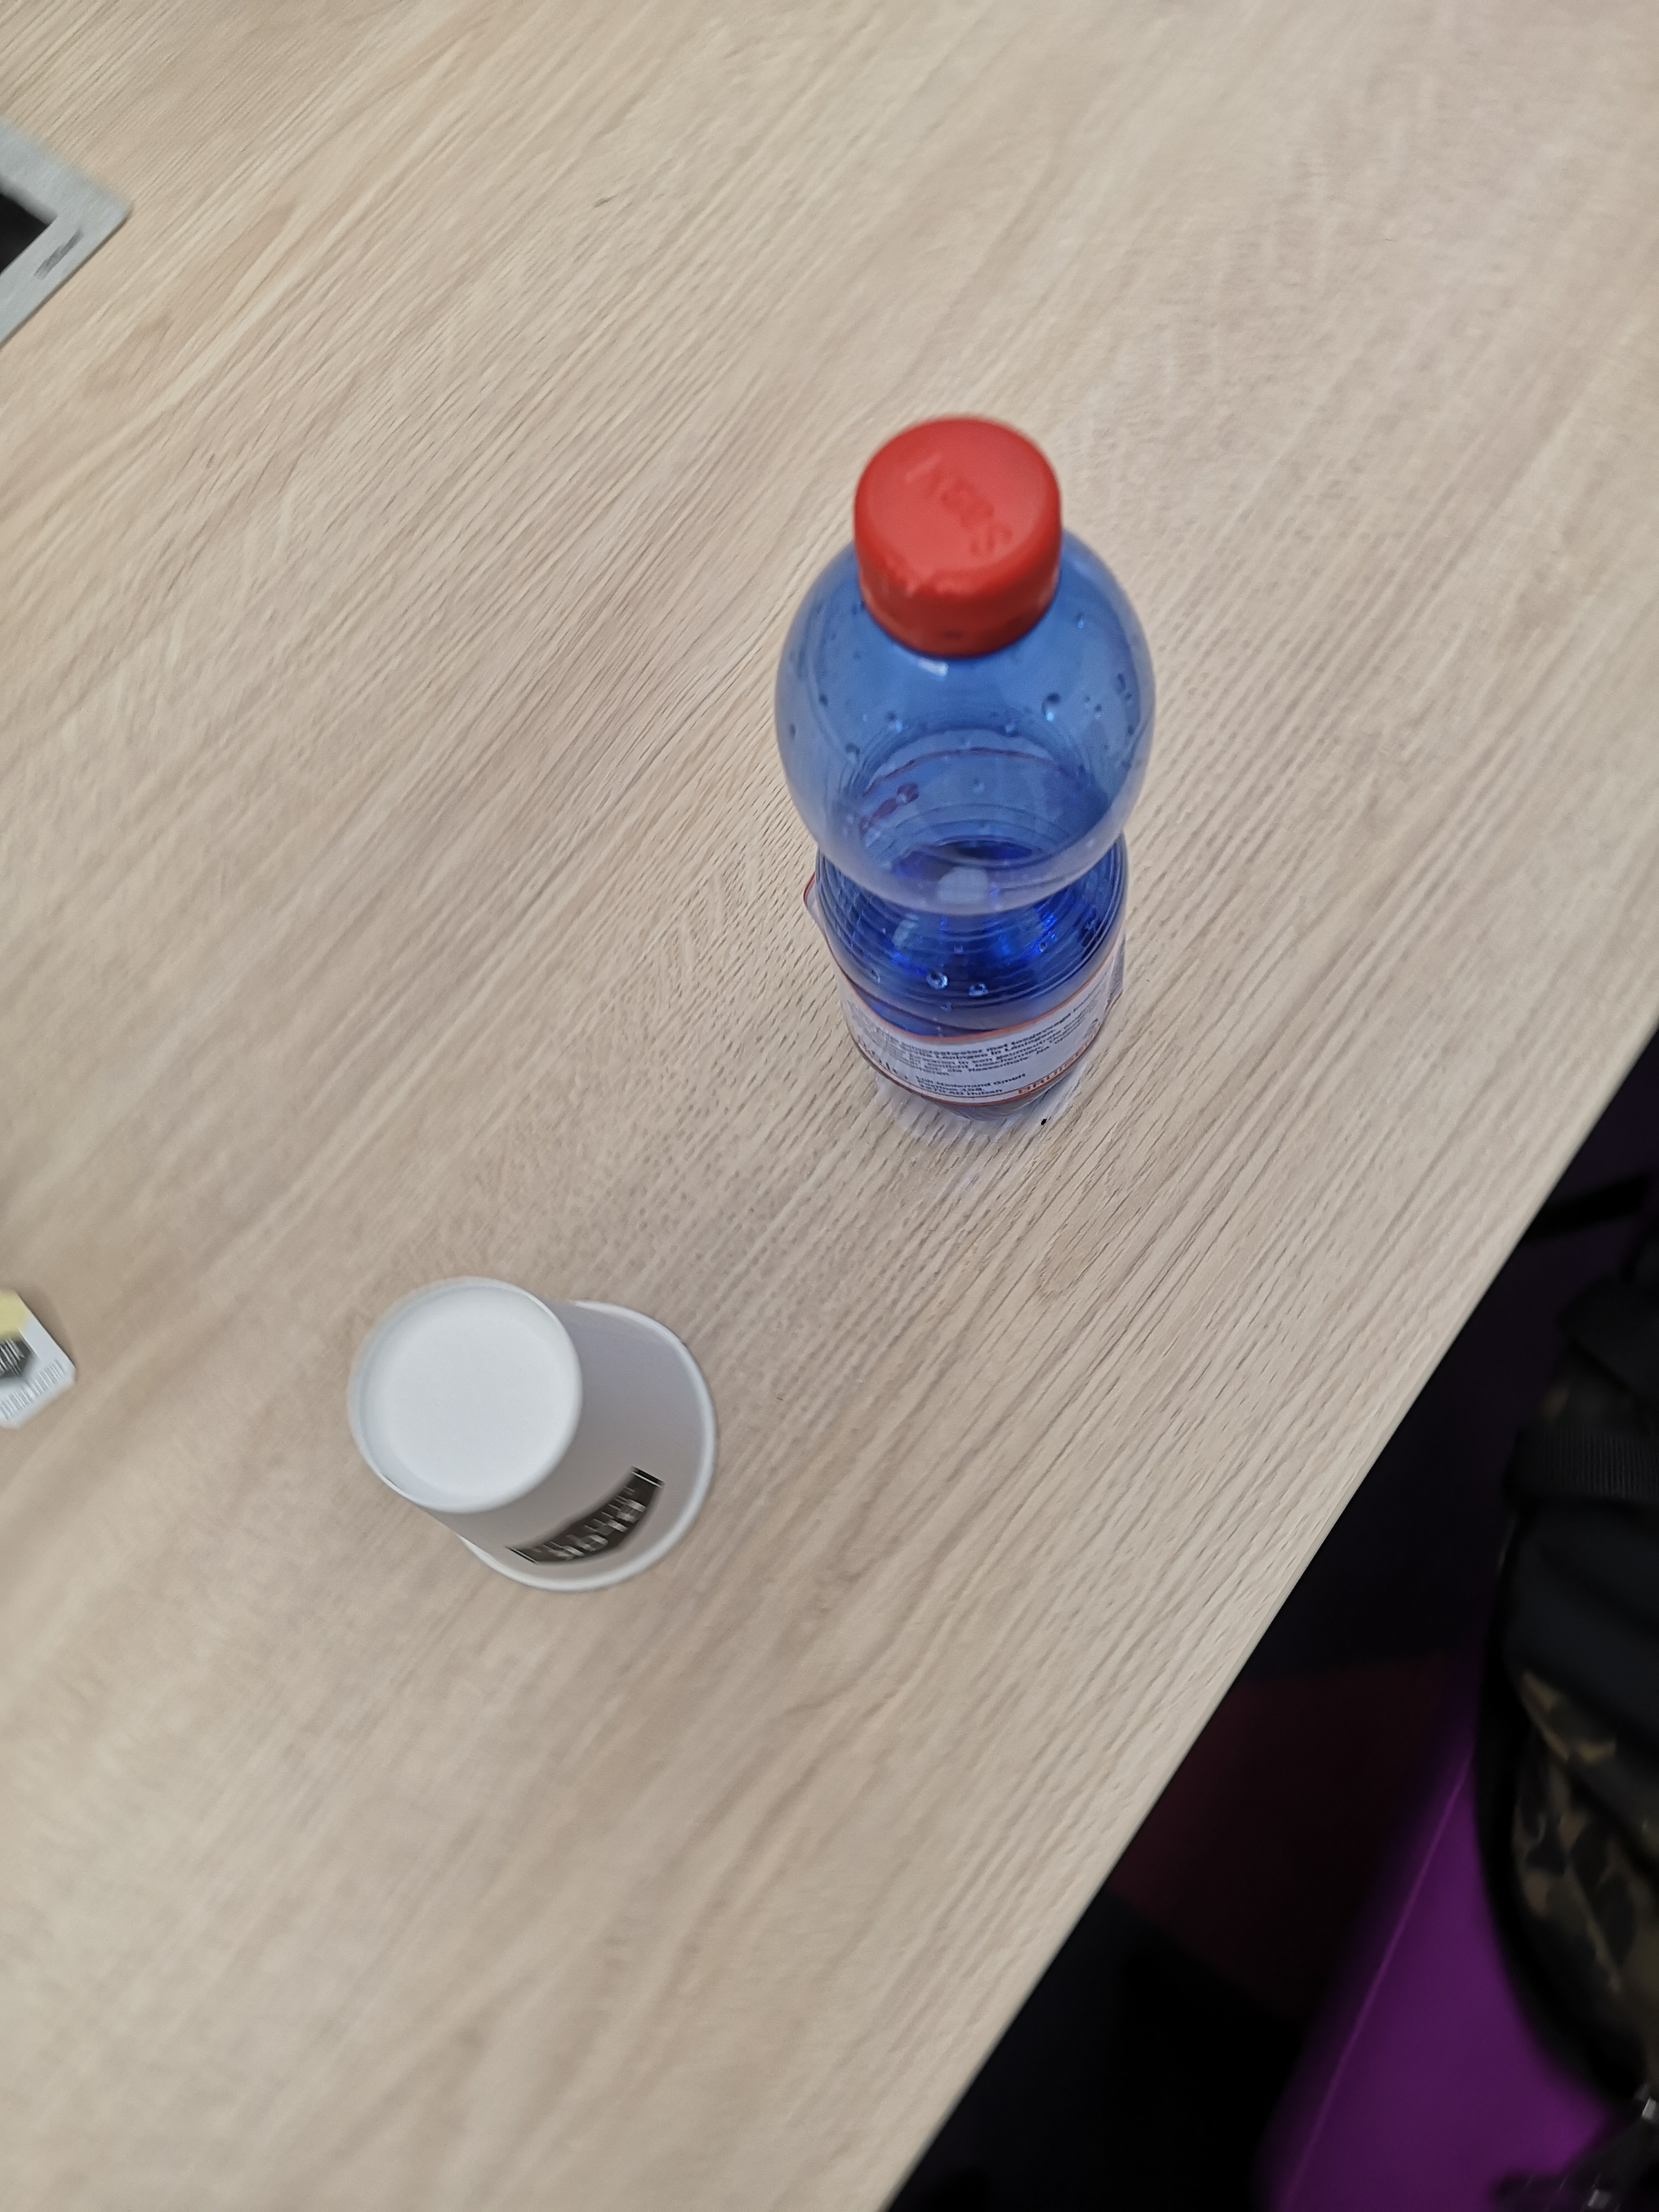cup: (317, 1259, 763, 1616)
plastic_bottle: (741, 392, 1190, 1143)
